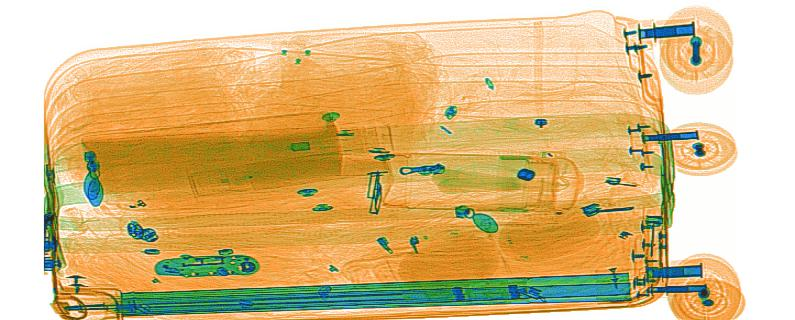plasticBottleWithaNozzle: (80, 108, 395, 196), (184, 144, 391, 201)
